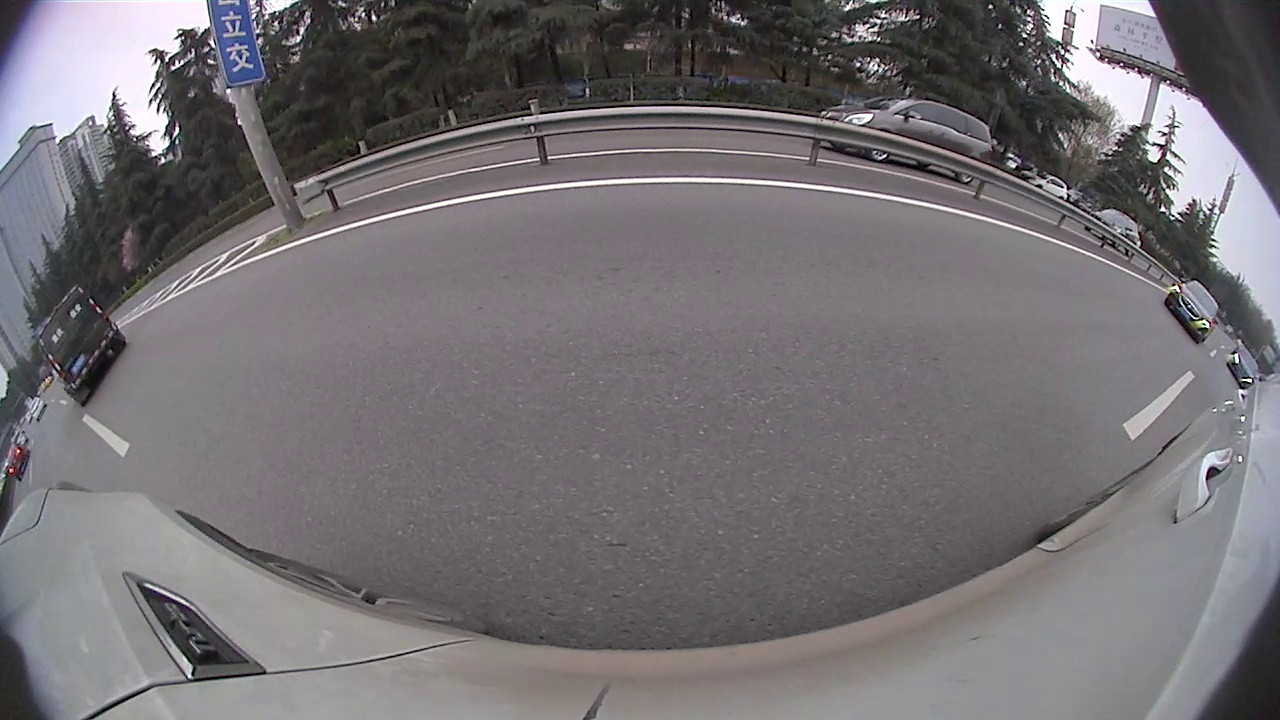car: (821, 95, 995, 185), (34, 282, 127, 407), (1163, 277, 1221, 346), (1082, 207, 1142, 260), (1017, 168, 1070, 202), (1225, 345, 1258, 391)
front: (870, 133, 892, 160)
rear: (957, 161, 978, 183)
